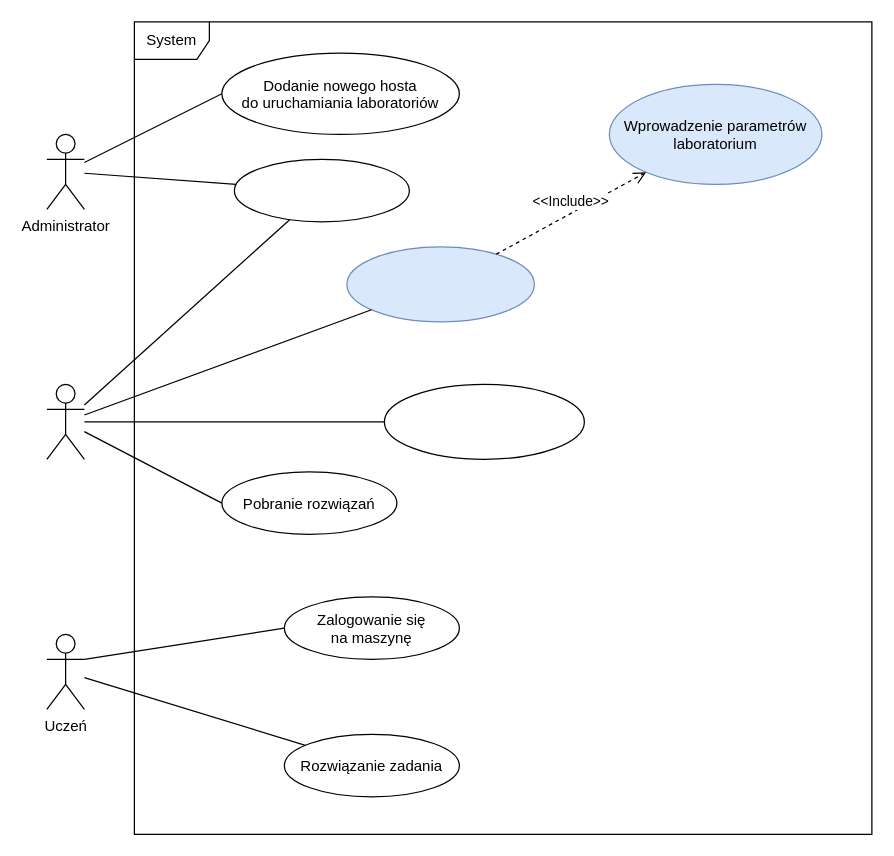
Some shapes in this 894 by 856 pixel diagram are drawn without their labels. The centre of each missing label's shape, as x and y in pixels:
"Nauczyciel" belongs at pixel 65 421.
"Resetowanie maszyn w przypadku awarii" belongs at pixel 483 421.
"Utworzenie laboratorium" belongs at pixel 440 284.
"Wyświetlenie stanu hostów" belongs at pixel 321 190.
